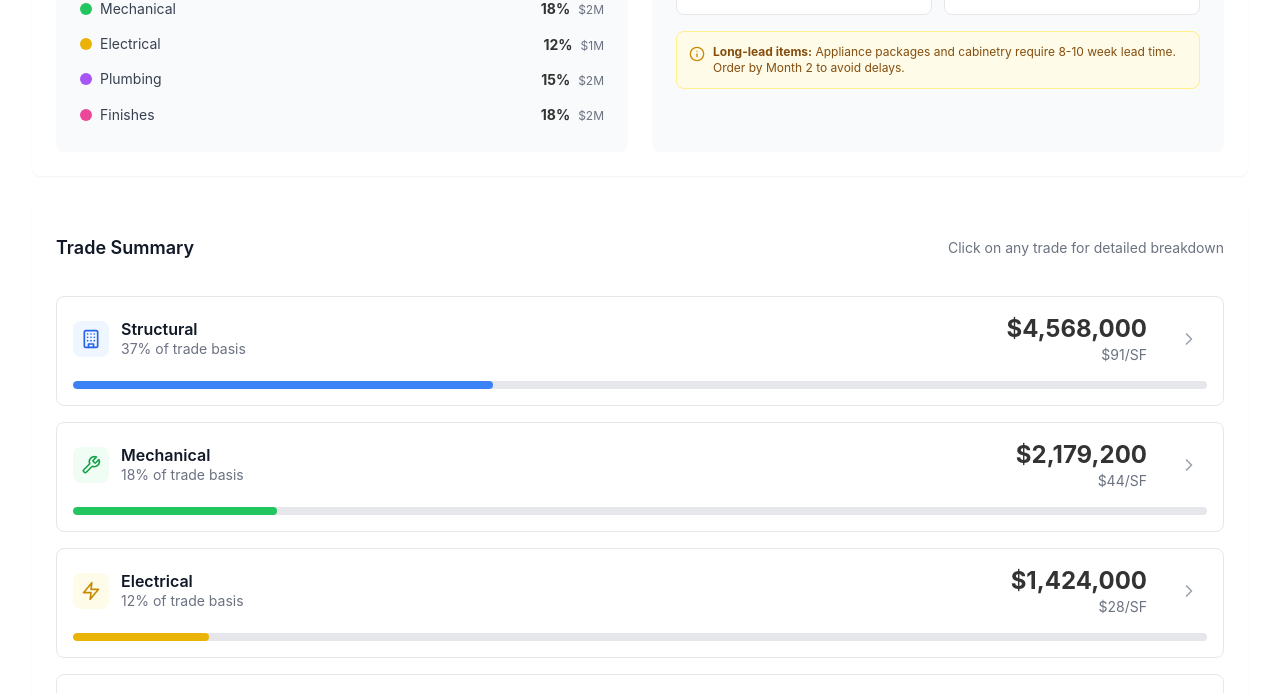
Scenario: ConstructionView › prefers backend-composed trade allocation fields for parking garage premiums
(page scrolled)
expect the text "37% of trade basis" is shown: met, box 121,339 -> 246,359
Click the button "Structural" at (91,339), box 57,297 -> 1223,405
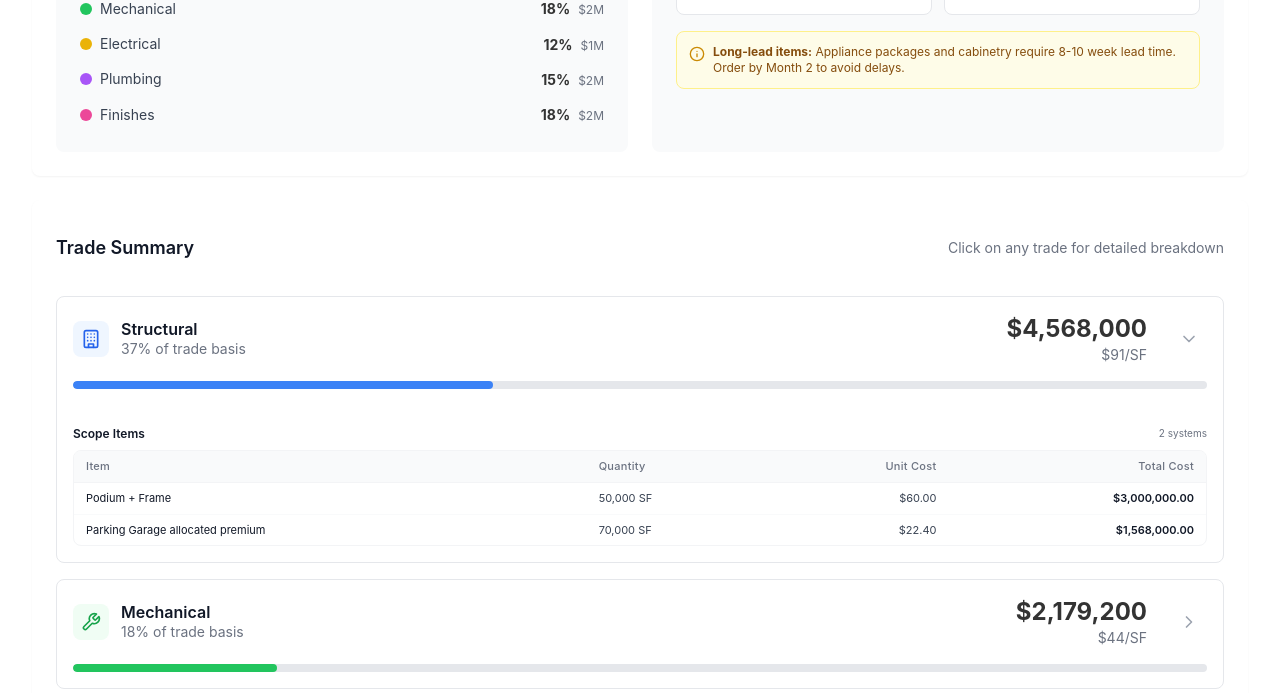
expect the text "Parking Garage allocated premium" is shown: met, box 74,514 -> 591,545
expect the text "2 systems" is shown: met, box 1159,425 -> 1207,442
